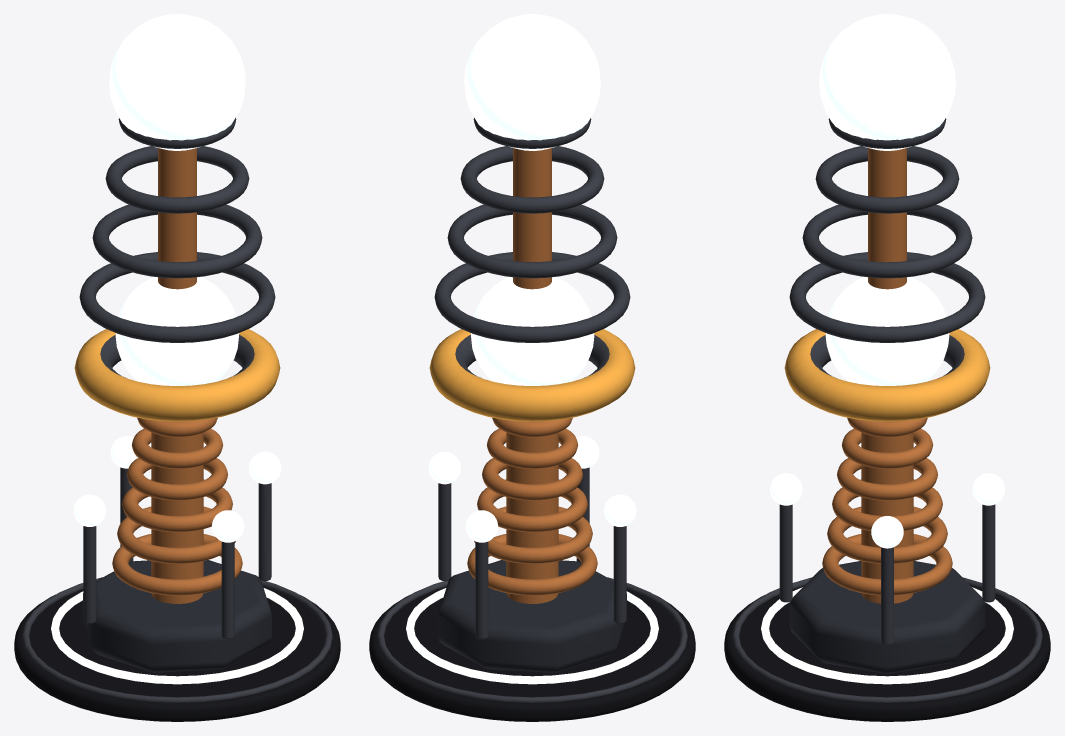
Rendered from lyn.glb.
3 renders of one model, left to right at view 1: azimuth 30°, elevation 25°; view 2: azimuth 150°, elevation 25°; view 3: azimuth 270°, elevation 25°, orthographic.
Visible parts, largest first — view 1: op4.002_net, spole_net, fod_net, ned4.001_net, ned4.002_net, op1_net, op4.001_net, op3_net, ned4.003_net; view 2: op4.002_net, spole_net, fod_net, ned4.001_net, ned4.002_net, op1_net, op4.001_net, op3_net, ned4.003_net; view 3: op4.002_net, spole_net, fod_net, ned4.001_net, ned4.002_net, op3_net, op4.001_net, op1_net, ned4.003_net.
Boxes of the visible parts, x1,y1,x2,y2 form: op4.002_net: (79,14,275,342); spole_net: (83,417,271,672); fod_net: (14,577,340,721); ned4.001_net: (115,277,239,385); ned4.002_net: (74,329,280,421); op1_net: (73,451,281,623); op4.001_net: (51,588,303,684); op3_net: (110,436,244,639); ned4.003_net: (100,334,254,377); op4.002_net: (434,14,630,342); spole_net: (438,417,626,672); fod_net: (369,577,695,721); ned4.001_net: (470,277,594,385); ned4.002_net: (429,329,635,421); op1_net: (428,451,636,623); op4.001_net: (406,588,658,684); op3_net: (465,436,599,639); ned4.003_net: (455,334,609,377); op4.002_net: (789,14,985,342); spole_net: (789,417,985,674); fod_net: (724,577,1050,721); ned4.001_net: (825,277,949,385); ned4.002_net: (784,329,990,421); op3_net: (770,473,1004,602); op4.001_net: (761,587,1013,684); op1_net: (871,516,903,645); ned4.003_net: (810,335,964,378).
Size of the model in its own units: 2 by 4.29 by 2.
